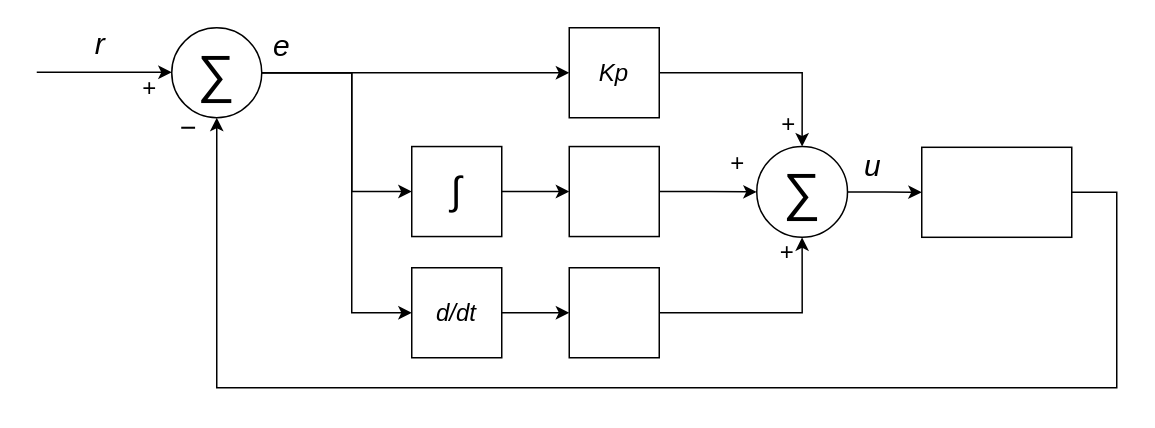
This 1155x428 diagram has some shape labels left out. Here are the shapes that lost their labels. From the top down, the box of each, then its label:
(568, 145, 659, 237): Ki
(920, 146, 1072, 237): Plant
(568, 266, 659, 358): Kd
